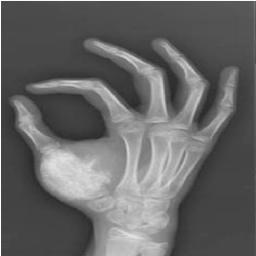cancer: (40, 147, 112, 201)
